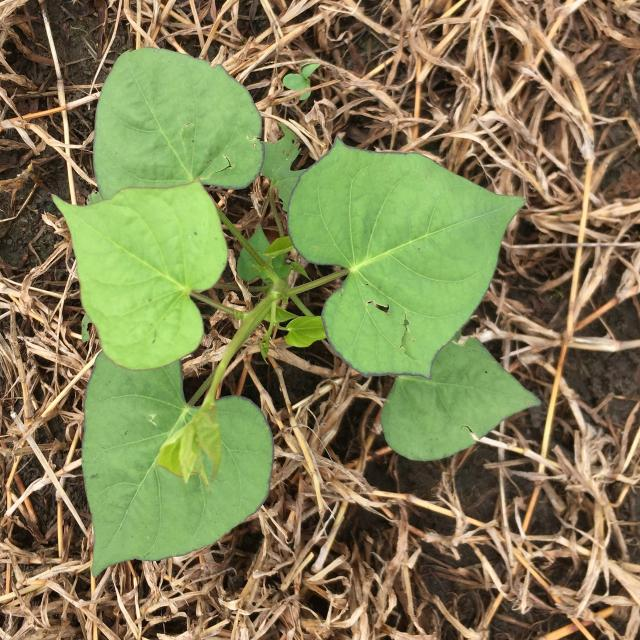MorningGlory: (52, 47, 543, 579)
